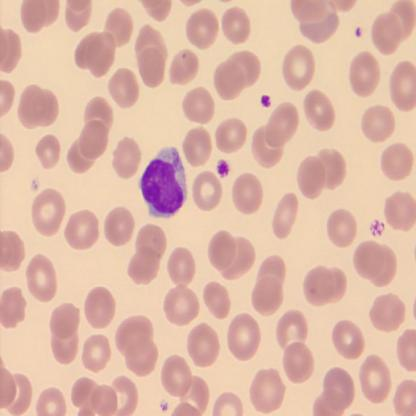Lymphocyte: (138, 146, 189, 220)
